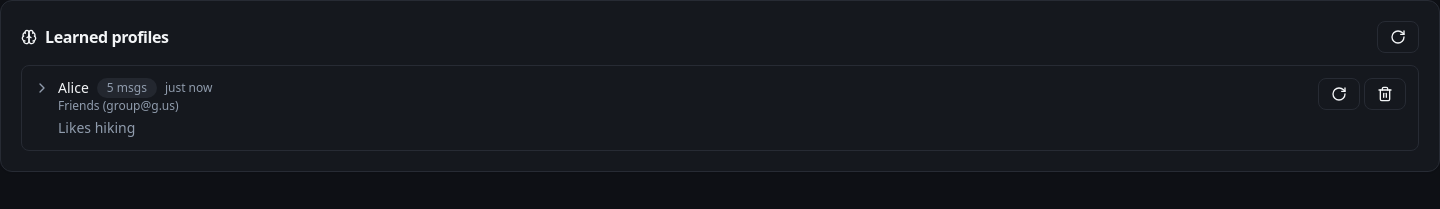
profile error states › shows a failed deletion without hiding the user
Click the button titled "Forget this user". click: x=1385, y=94
box: top-left (1364, 78), bottom-right (1406, 110)
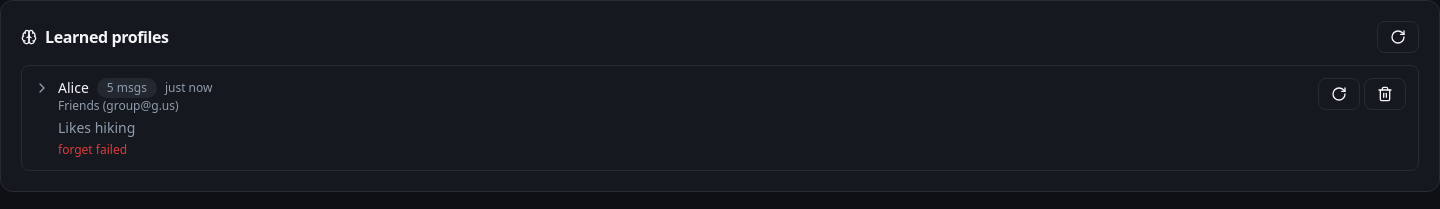
Expected: the text "Alice" is shown, top-left (58, 78), bottom-right (89, 98)
Expected: the message reads "forget failed", top-left (58, 141), bottom-right (127, 158)
